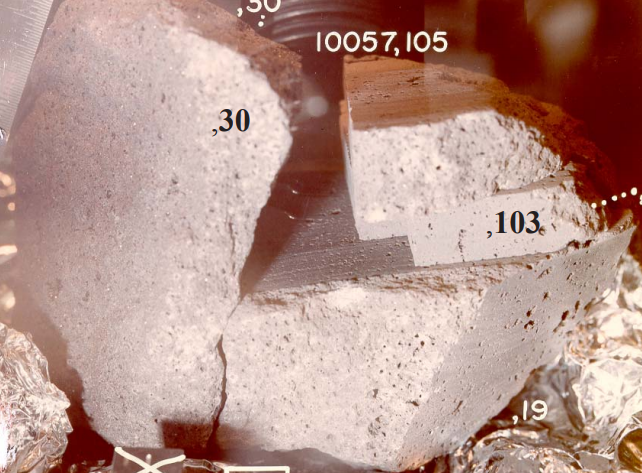Basalt: (37, 8, 328, 435), (323, 60, 572, 451)
